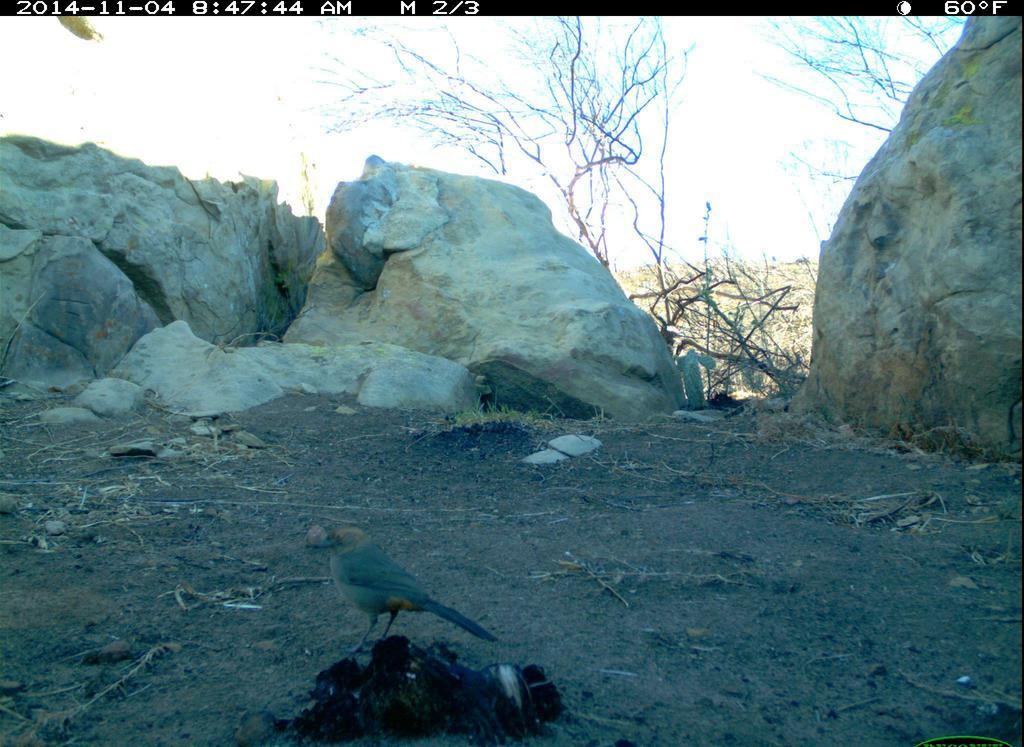bird: (306, 523, 498, 657)
